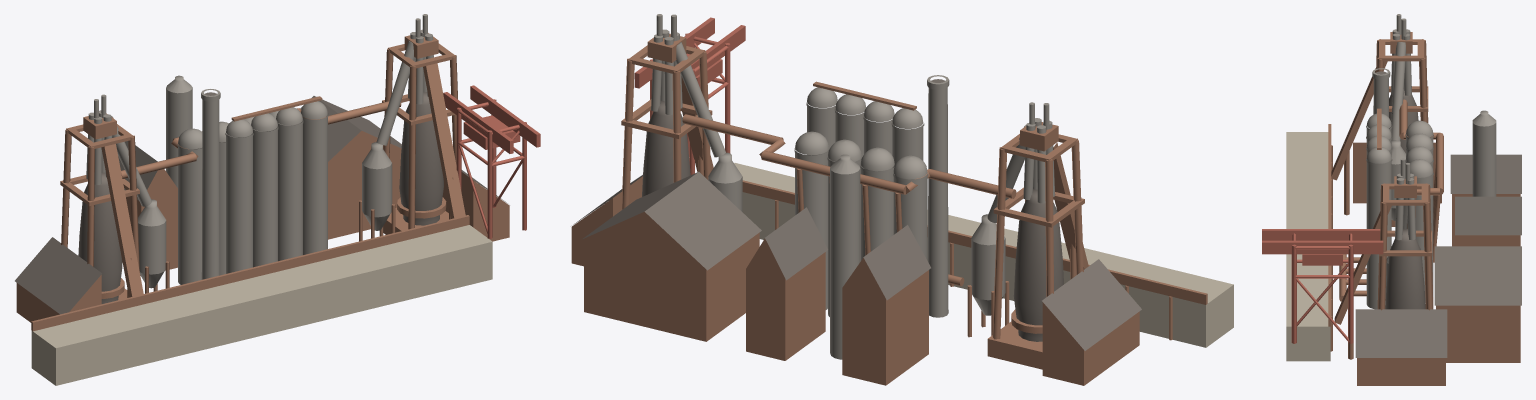
Rendered from pit-carrie-furnaces.glb.
The picture shows the model from 3 angles, left to right: view 1: azimuth 30°, elevation 25°; view 2: azimuth 150°, elevation 25°; view 3: azimuth 270°, elevation 25°; orthographic projection. The views are drawn at different scales.
Parts seen in each view (by area): view 1: Carrie Blast Furnaces; view 2: Carrie Blast Furnaces; view 3: Carrie Blast Furnaces.
Boxes of the visible parts, x1,y1,x2,y2 form: Carrie Blast Furnaces: (15,14,540,385); Carrie Blast Furnaces: (571,14,1233,385); Carrie Blast Furnaces: (1262,14,1521,385).
Size of the model in its own units: 129 by 53.8 by 64.3.
